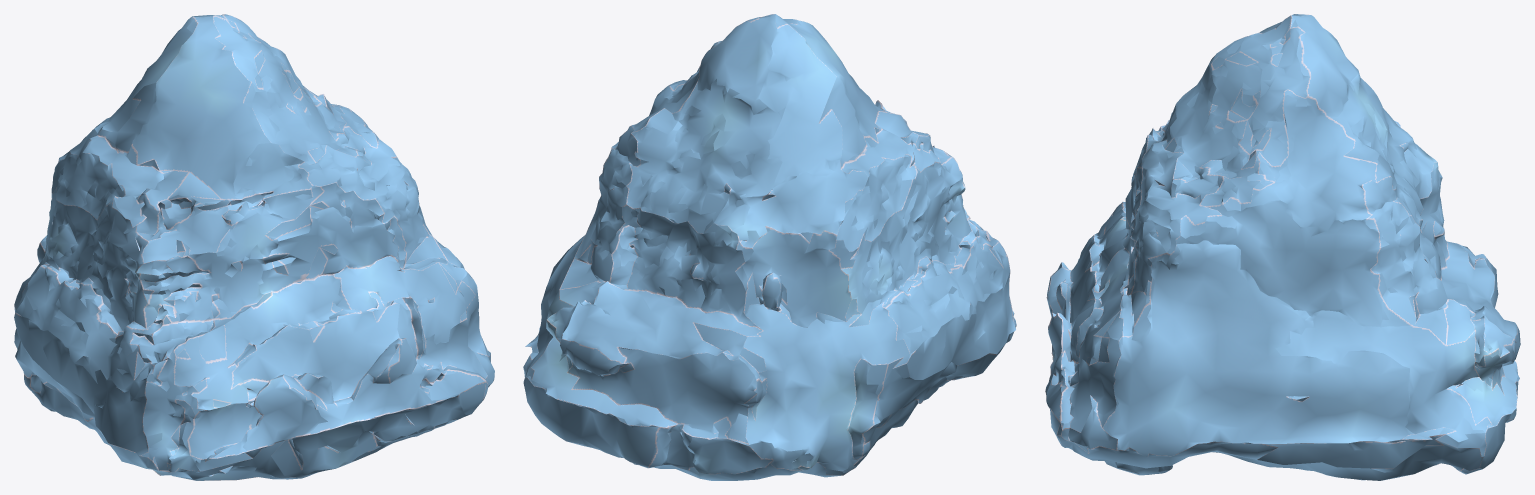
Rendered from crystal_blue.glb.
The picture shows the model from 3 angles, left to right: view 1: azimuth 30°, elevation 25°; view 2: azimuth 150°, elevation 25°; view 3: azimuth 270°, elevation 25°; orthographic projection. The views are drawn at different scales.
Parts seen in each view (by area): view 1: world; view 2: world; view 3: world.
Boxes of the visible parts, box(x1,y1,x2,y2) form: world: box(14, 14, 494, 480); world: box(523, 14, 1016, 480); world: box(1045, 14, 1520, 480).
Bounding box in the file's own units: 1.47 × 1.53 × 1.6.
Materials: 1 (1 with a texture image).
